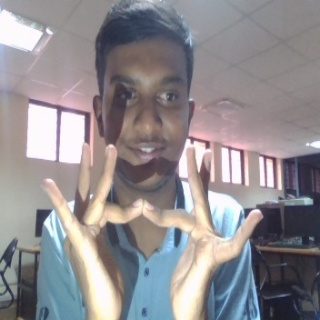Internet: (37, 139, 263, 320)
